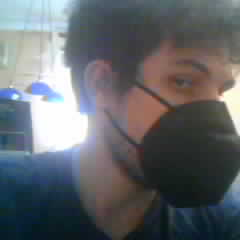with_mask: (113, 37, 239, 207)
